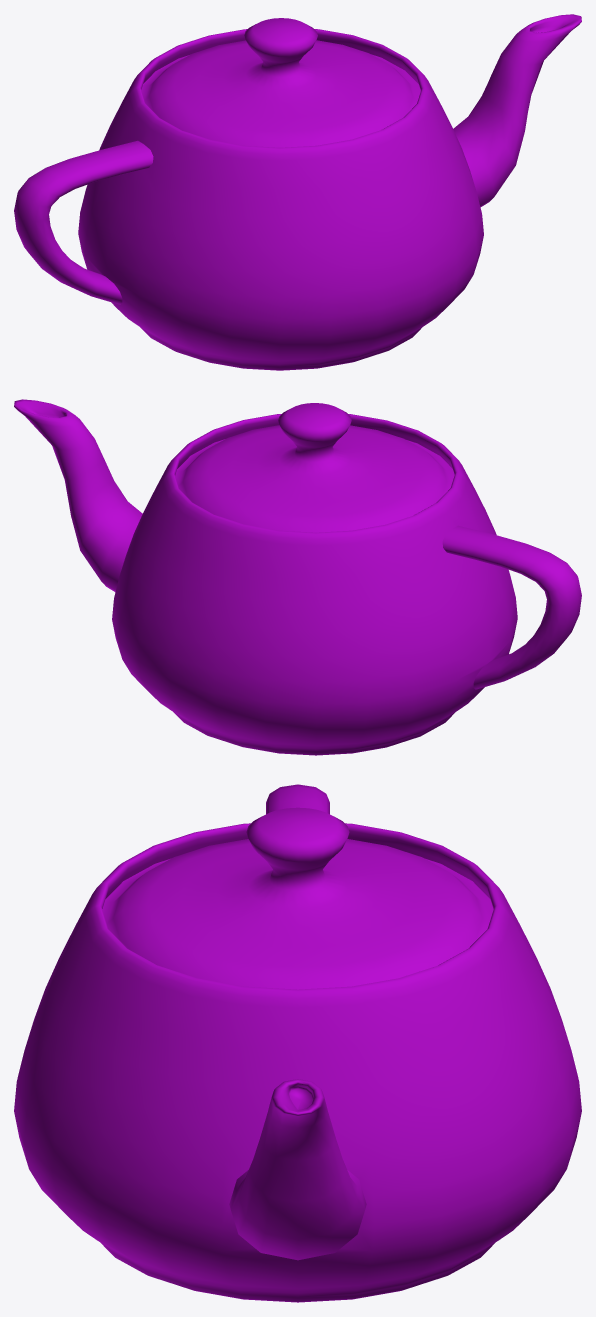
File: teapot.obj
3 views of the same model, one above another, from view 1: azimuth 30°, elevation 25°; view 2: azimuth 150°, elevation 25°; view 3: azimuth 270°, elevation 25° (orthographic). The views are drawn at different scales.
Visible parts, largest first — view 1: teapot.005; view 2: teapot.005; view 3: teapot.005.
Boxes of the visible parts, x1,y1,x2,y2 form: teapot.005: (14, 14, 581, 370); teapot.005: (14, 399, 581, 755); teapot.005: (14, 784, 581, 1302).
Size of the model in its own units: 2.04 by 1 by 1.27.
